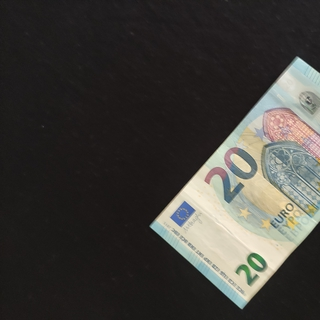20EUROFront: (149, 55, 320, 310)
